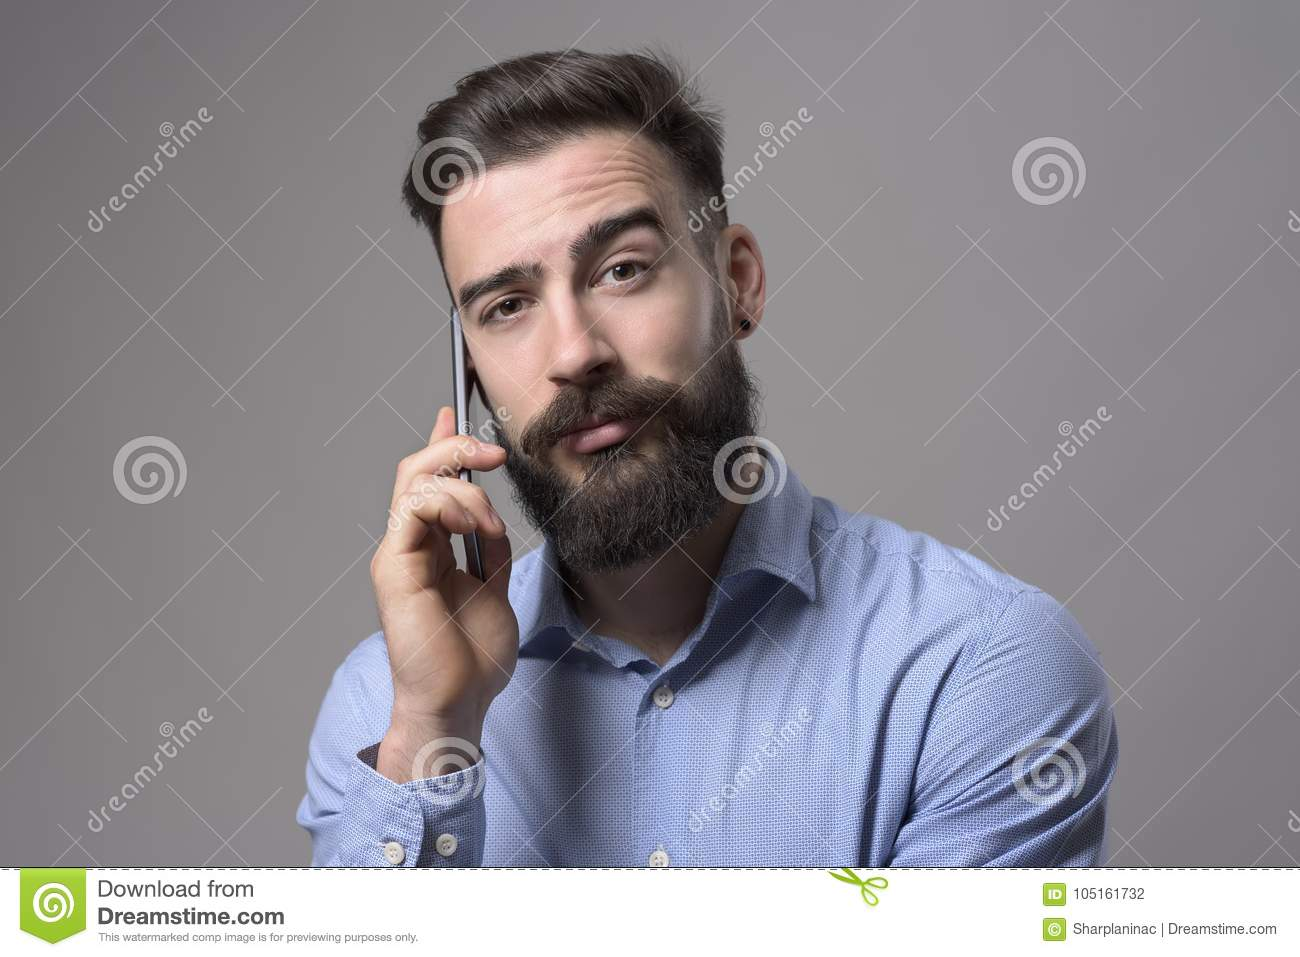phone: (450, 301, 491, 580)
talk: (366, 191, 705, 745)
